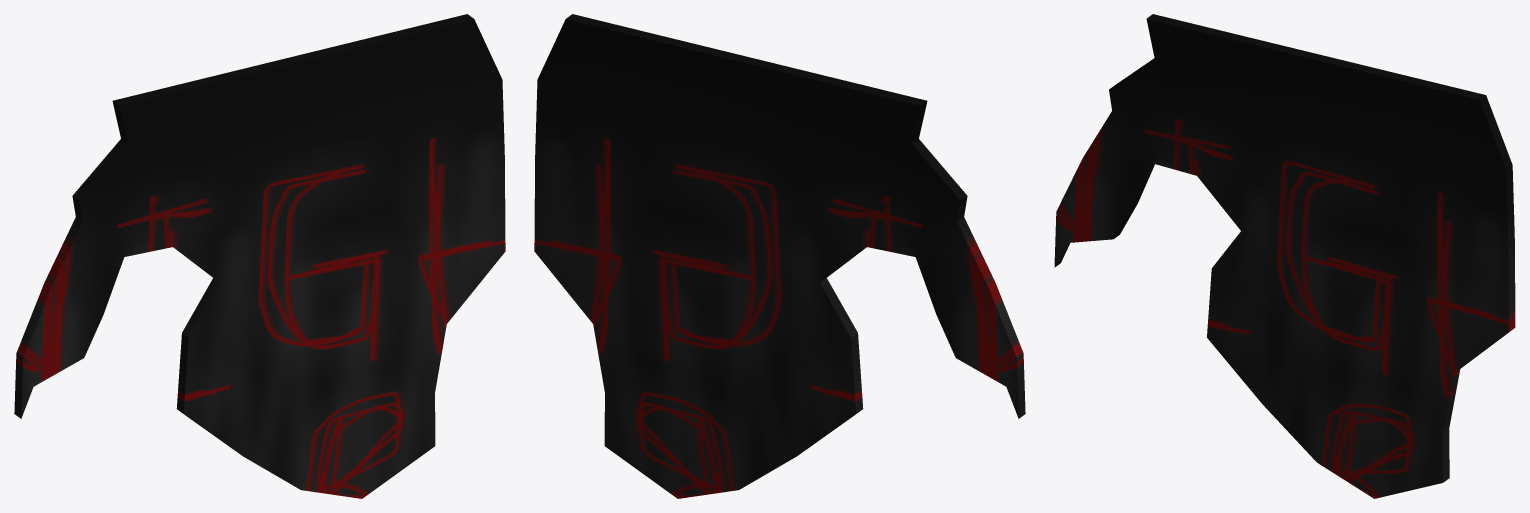
Rendered from Puzzle2.fbx.
3 renders of one model, left to right at view 1: azimuth 30°, elevation 25°; view 2: azimuth 150°, elevation 25°; view 3: azimuth 330°, elevation 25°, orthographic. The views are drawn at different scales.
Visible parts, largest first — view 1: Cube.003; view 2: Cube.003; view 3: Cube.003.
Part boxes in pixels (left/top/right/bottom): Cube.003: left=14, top=14, right=505, bottom=498; Cube.003: left=534, top=14, right=1025, bottom=498; Cube.003: left=1054, top=14, right=1515, bottom=498.
Bounding box in the file's own units: 39.22 × 35.02 × 0.966.
